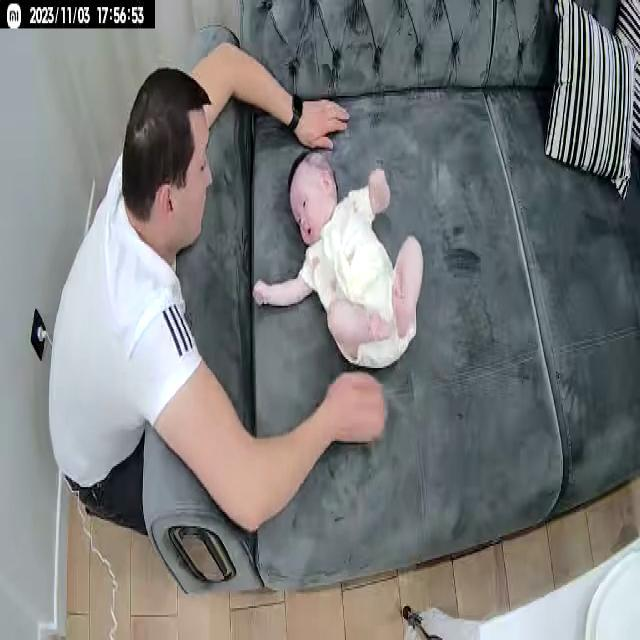baby: (250, 150, 424, 378)
